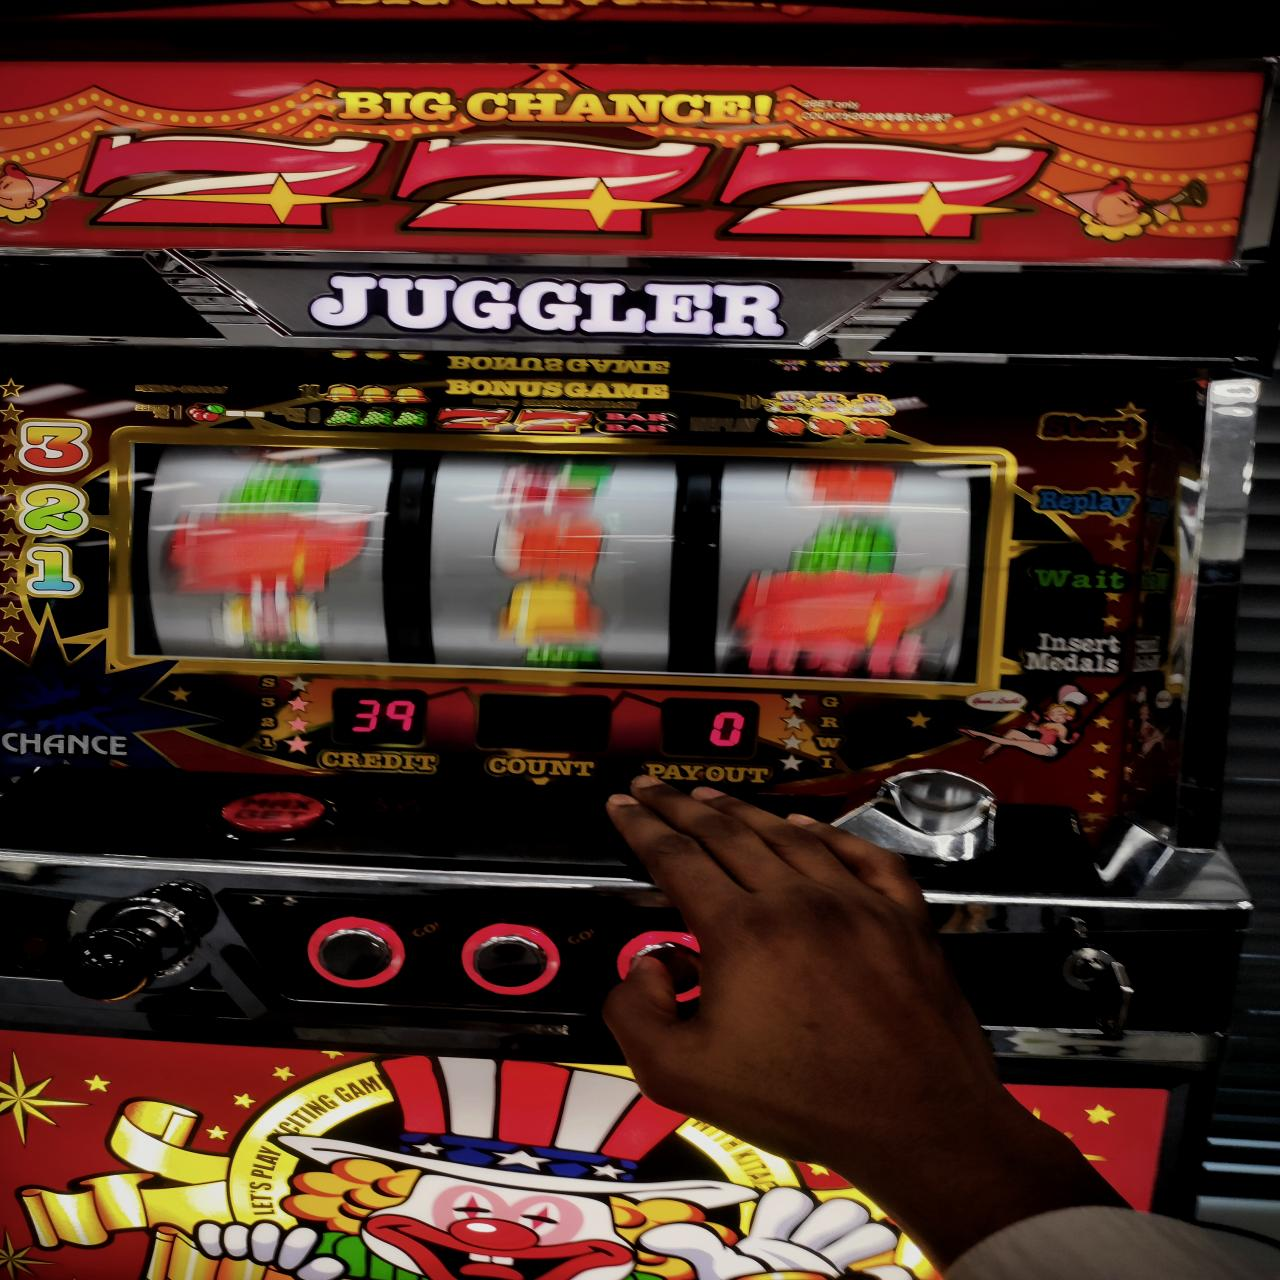rhino: (123, 437, 989, 689)
